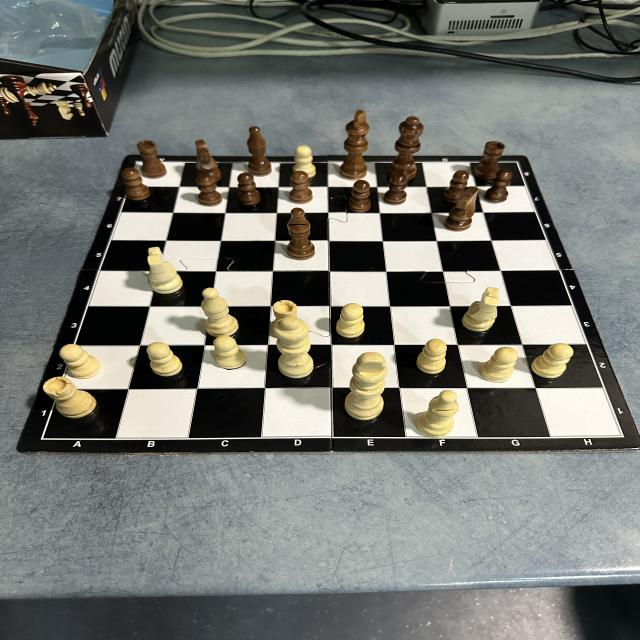Black-Bishop: (286, 207, 314, 259), (246, 126, 272, 176)
Black-King: (339, 112, 370, 178)
Black-Knight: (445, 188, 478, 232), (193, 139, 220, 183)
Black-Pawn: (483, 170, 512, 203), (122, 168, 150, 200), (443, 171, 470, 201), (198, 175, 222, 206), (290, 171, 313, 203), (384, 172, 407, 204), (349, 180, 371, 213), (238, 173, 260, 205)
Black-Queen: (390, 116, 424, 181)
Black-Rook: (473, 140, 506, 178), (138, 141, 166, 177)
White-Bishop: (417, 390, 459, 437), (202, 288, 238, 337)
White-King: (346, 352, 386, 421)
White-Knight: (146, 246, 183, 294), (461, 286, 499, 330)
White-Pawn: (532, 342, 574, 378), (480, 346, 518, 383), (60, 344, 100, 378), (146, 342, 182, 376), (416, 338, 447, 374), (214, 337, 246, 370), (336, 302, 364, 338), (293, 146, 316, 177)
White-Queen: (275, 318, 313, 379)
White-Rook: (43, 378, 97, 418), (272, 297, 298, 335)
